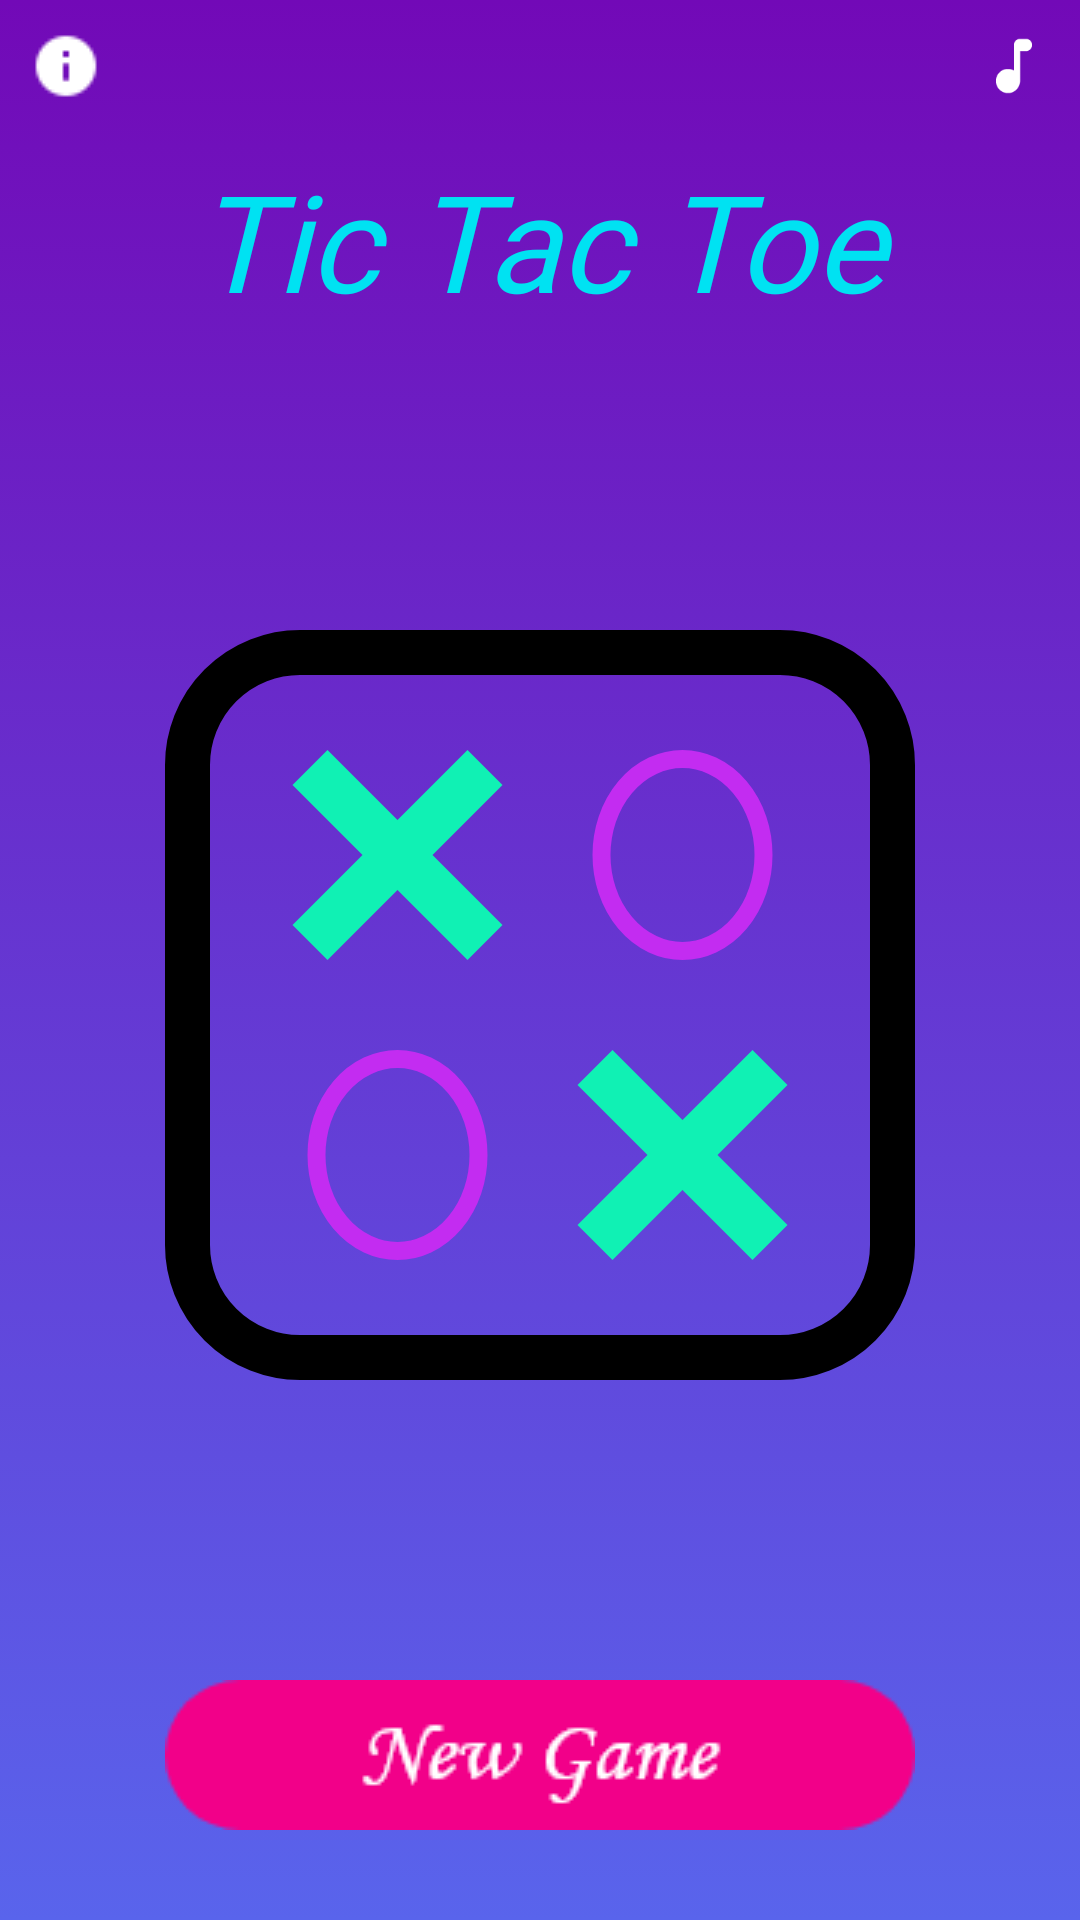

Icon click points for this 1080 x 1920 phone screenshot, format (x,y):
info: (66,66)
